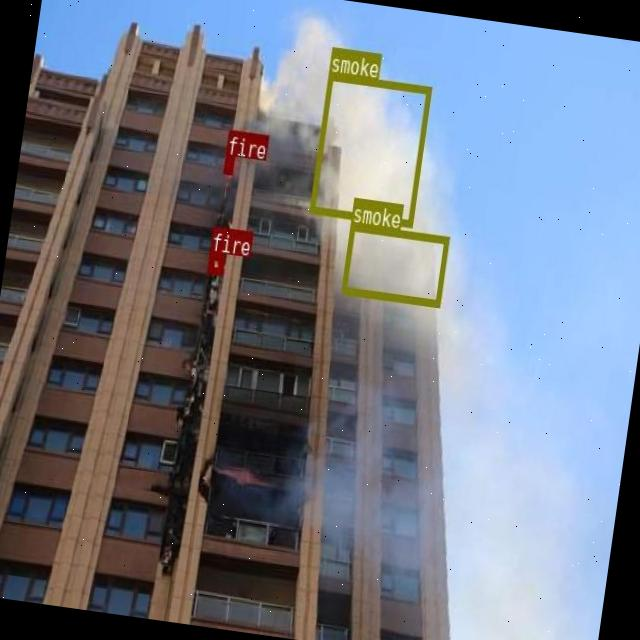fire: (207, 251, 224, 275), (224, 154, 235, 173)
smoke: (309, 72, 432, 226), (341, 224, 449, 306)
